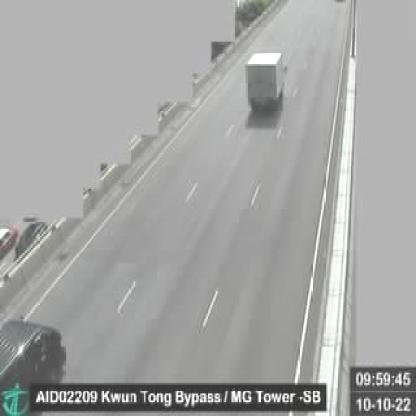Car: (0, 317, 66, 394)
Truck: (246, 52, 284, 110)
